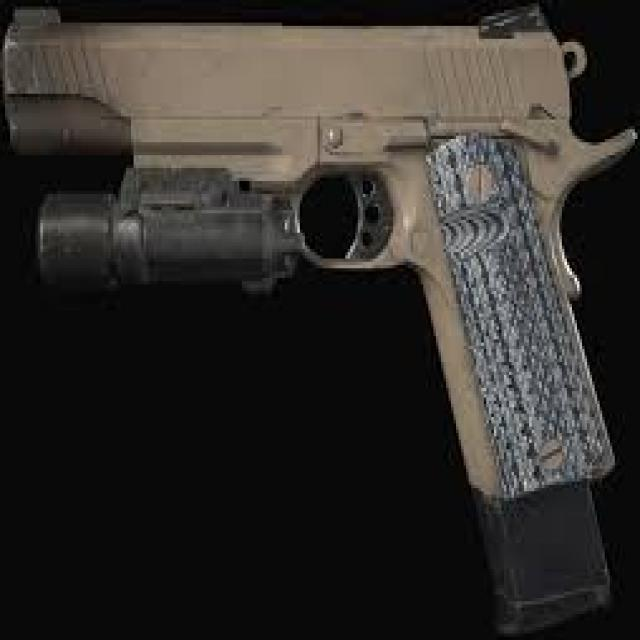semi automatic: (0, 0, 635, 627)
